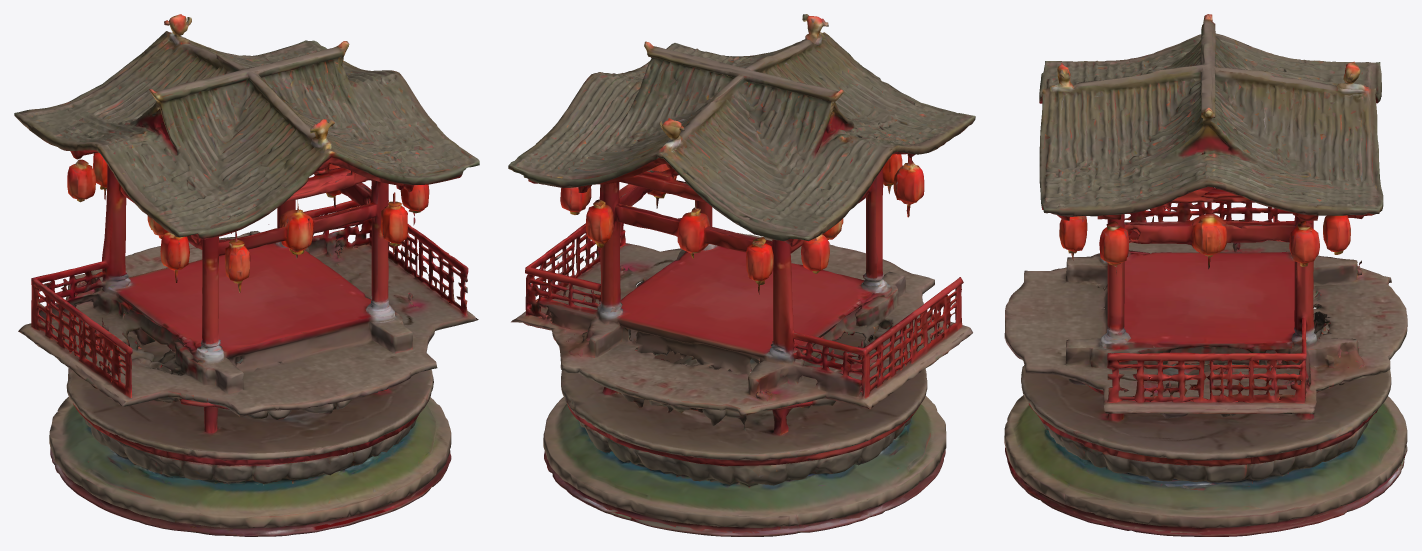
The model's file is bq_music_pav.hd.glb.
3 views of the same model, side by side, from view 1: azimuth 30°, elevation 25°; view 2: azimuth 150°, elevation 25°; view 3: azimuth 270°, elevation 25° (orthographic).
Size of the model in its own units: 1.94 by 2 by 1.87.
1 material, 1 textured.
